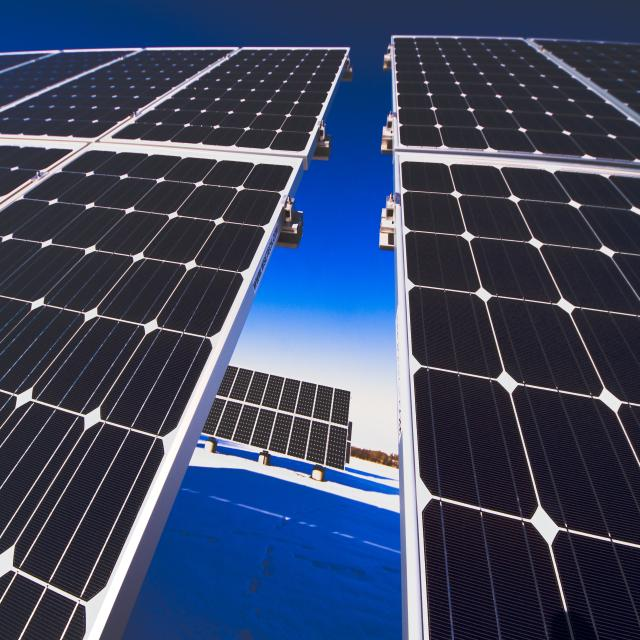clean-solar-panel: (0, 49, 349, 640), (389, 38, 640, 640)
